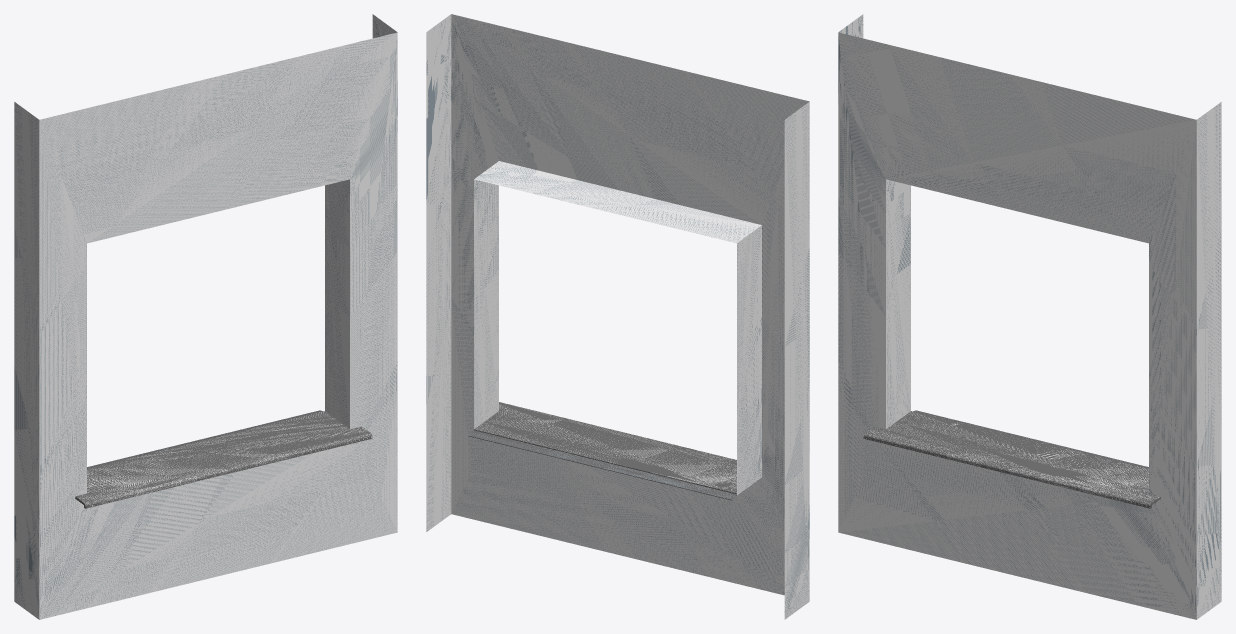
File: WindowBlock_os_[300x400]_220x200x[090].dae
3 views of the same model, side by side, from view 1: azimuth 30°, elevation 25°; view 2: azimuth 150°, elevation 25°; view 3: azimuth 330°, elevation 25° (orthographic).
Parts seen in each view (by area): view 1: group_1 (×2), group_2 (×2); view 2: group_1 (×2), group_2 (×2); view 3: group_1 (×2), group_2 (×2).
Part boxes in pixels (<box>): group_1 (×2): <box>14,14,397,619</box>; group_2 (×2): <box>75,410,372,508</box>; group_1 (×2): <box>426,14,809,619</box>; group_2 (×2): <box>469,402,736,500</box>; group_1 (×2): <box>838,14,1221,619</box>; group_2 (×2): <box>863,410,1160,508</box>.
Size of the model in its own units: 118 by 23.03 by 157.
